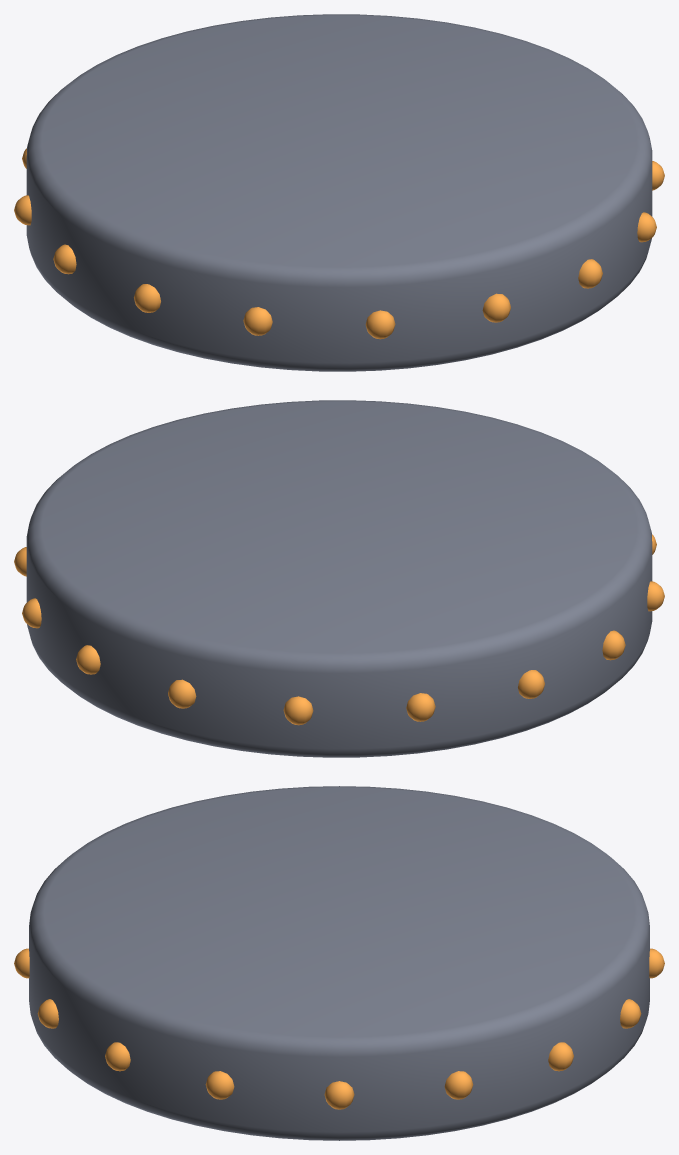
The model's file is decoupler.glb.
The picture shows the model from 3 angles, top to bottom: view 1: azimuth 30°, elevation 25°; view 2: azimuth 150°, elevation 25°; view 3: azimuth 270°, elevation 25°; orthographic projection.
Parts seen in each view (by area): view 1: Decoupler; view 2: Decoupler; view 3: Decoupler.
Boxes of the visible parts, x1,y1,x2,y2 form: Decoupler: (14,14,664,371); Decoupler: (14,400,664,757); Decoupler: (14,786,664,1140).
Size of the model in its own units: 2.59 by 0.45 by 2.59.
